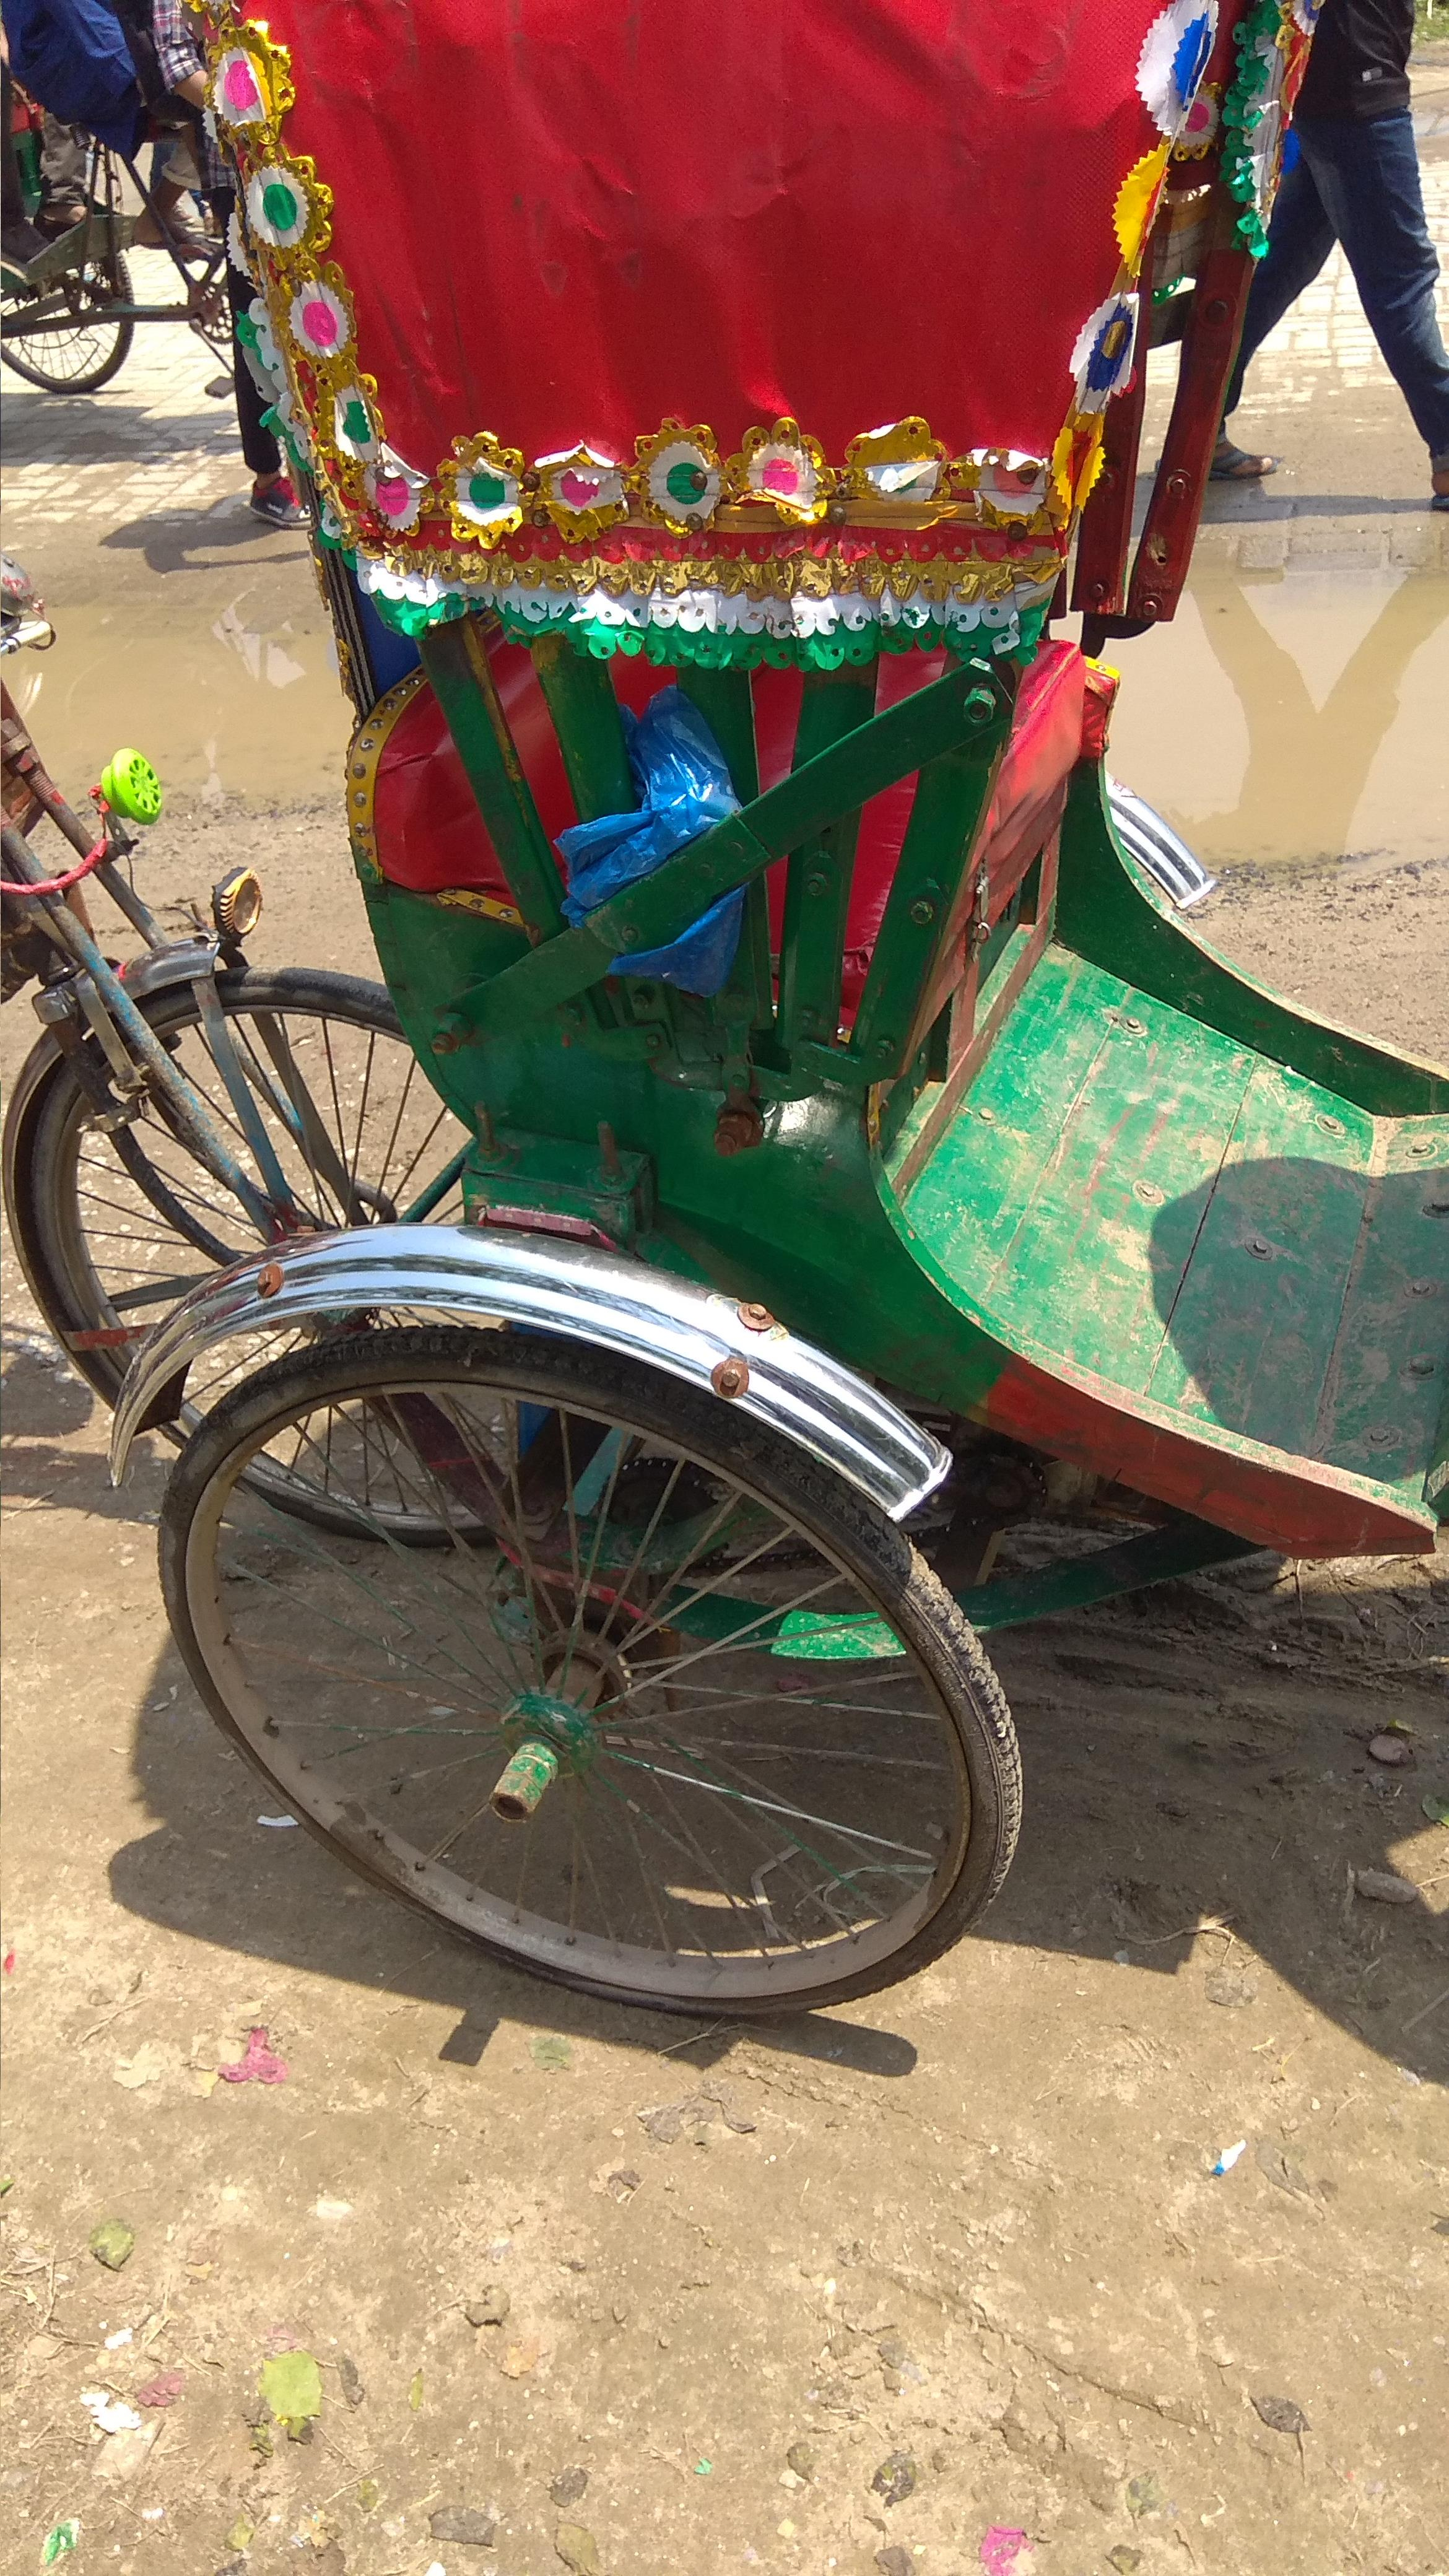Rickshaw: (145, 25, 1440, 1959)
